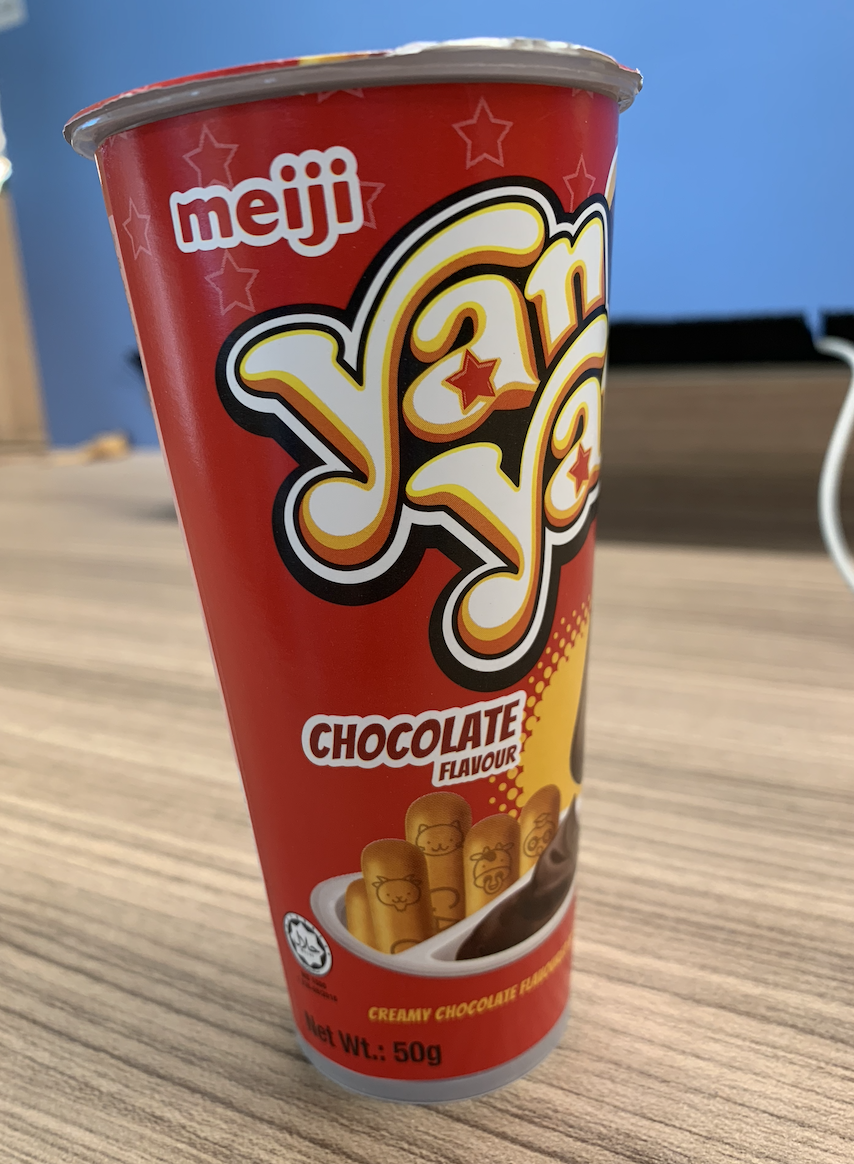cookies_1g-99g: (189, 105, 557, 1074)
